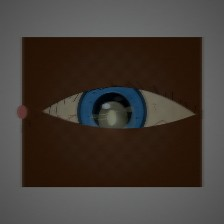corneal_ulcer: (84, 96, 142, 142)
